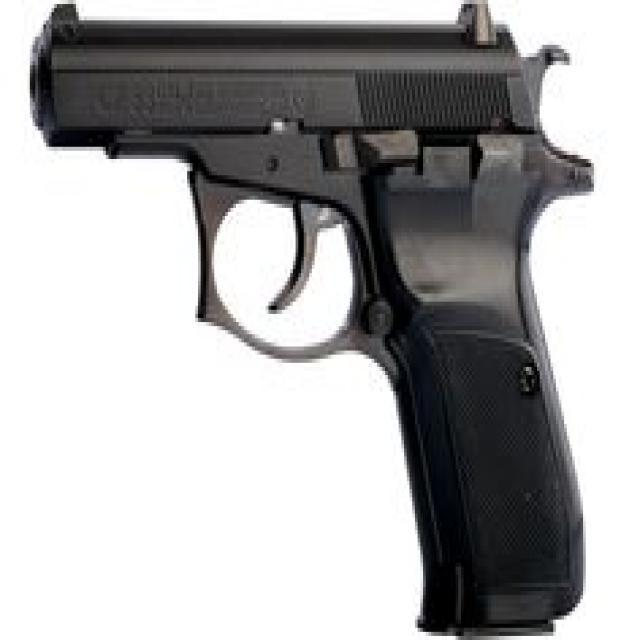semi automatic: (22, 0, 604, 640)
